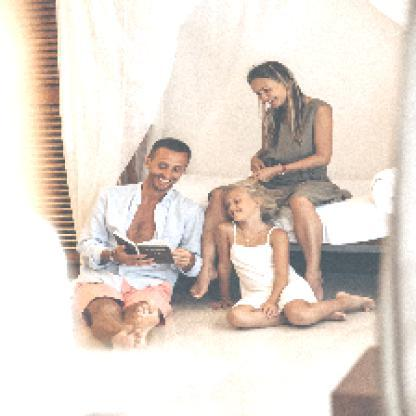child: (210, 179, 377, 328)
